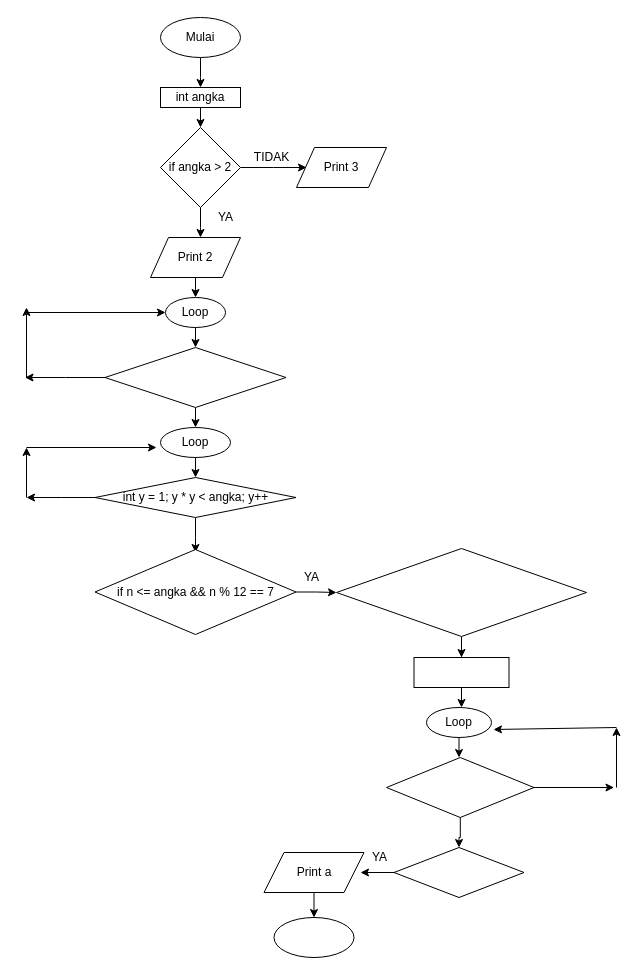
This 642x975 diagram has some shape labels left out. The shapes that lost their labels are listed below. From the top down, each one's centre as x and y in pixels, then its label:
[195,377]: int x = 1; x * x < angka; x++
[461,592]: if x > y && n <= angka && n % 12 == 11
[461,672]: bilangan[n] ^= true
[460,787]: int a = 5; a < angka; a++
[458,872]: if bilangan[a]
[313,937]: Selesai
